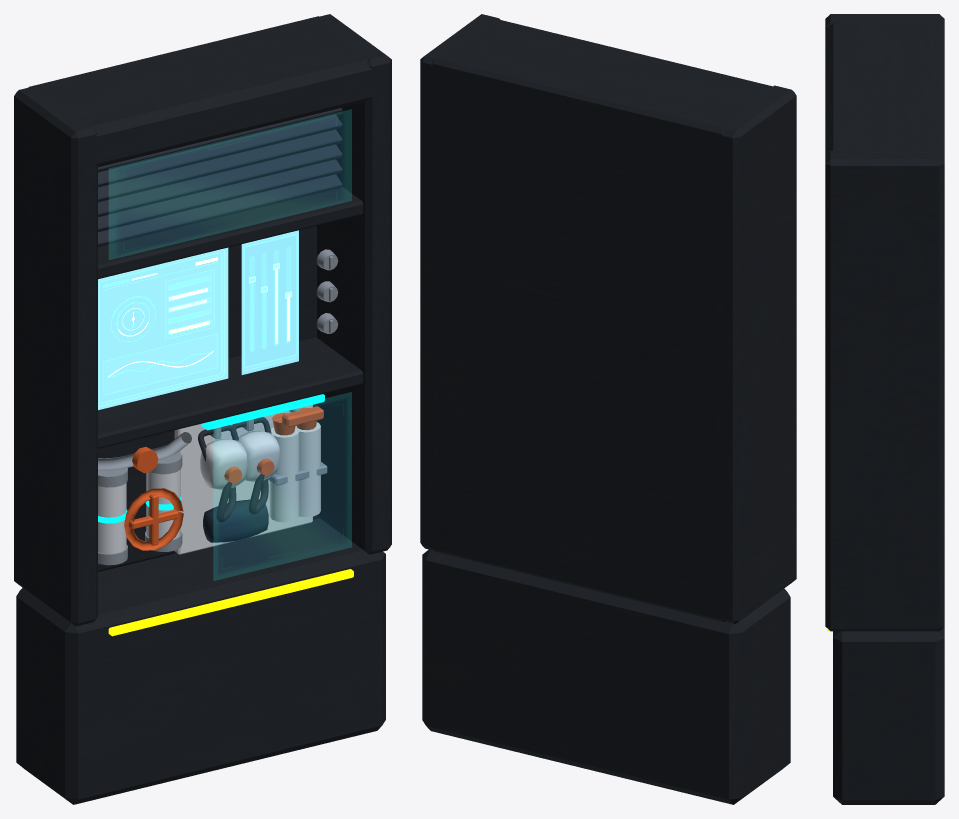
File: climate_r1_05.glb
3 renders of one model, left to right at view 1: azimuth 30°, elevation 25°; view 2: azimuth 150°, elevation 25°; view 3: azimuth 270°, elevation 25°, orthographic. The views are drawn at different scales.
Visible parts, largest first — view 1: Climate05_ArmoredPressureBulkheadHull, Climate05_MotorizedDamperBlades, Climate05_TranslucentDamperAndO2Doors, Climate05_OLEDTelemetry, Climate05_WhiteMasksTanksAndScrubbers, Climate05_OLEDSliders, Climate05_SignalOrangeRotaryHandwheel, Climate05_MachinedCrossFeedPipesAndVerniers, Climate05_AmberPlinthLED, Climate05_NavyHoodPouch, Climate05_CharcoalStrapsAndHoses, Climate05_CyanStatusLED; view 2: Climate05_ArmoredPressureBulkheadHull; view 3: Climate05_ArmoredPressureBulkheadHull.
Boxes of the visible parts, x1,y1,x2,y2 form: Climate05_ArmoredPressureBulkheadHull: (14,14,391,804); Climate05_MotorizedDamperBlades: (98,108,342,246); Climate05_TranslucentDamperAndO2Doors: (109,110,351,580); Climate05_OLEDTelemetry: (98,247,228,410); Climate05_WhiteMasksTanksAndScrubbers: (98,405,320,554); Climate05_OLEDSliders: (241,230,298,374); Climate05_SignalOrangeRotaryHandwheel: (124,406,323,550); Climate05_MachinedCrossFeedPipesAndVerniers: (98,249,338,565); Climate05_AmberPlinthLED: (108,569,353,636); Climate05_NavyHoodPouch: (203,499,268,542); Climate05_CharcoalStrapsAndHoses: (198,417,271,522); Climate05_CyanStatusLED: (98,394,324,523); Climate05_ArmoredPressureBulkheadHull: (420,14,796,804); Climate05_ArmoredPressureBulkheadHull: (825,14,944,804).
Bounding box in the file's own units: 0.95 × 1.92 × 0.32.
13 materials, 13 textured.
